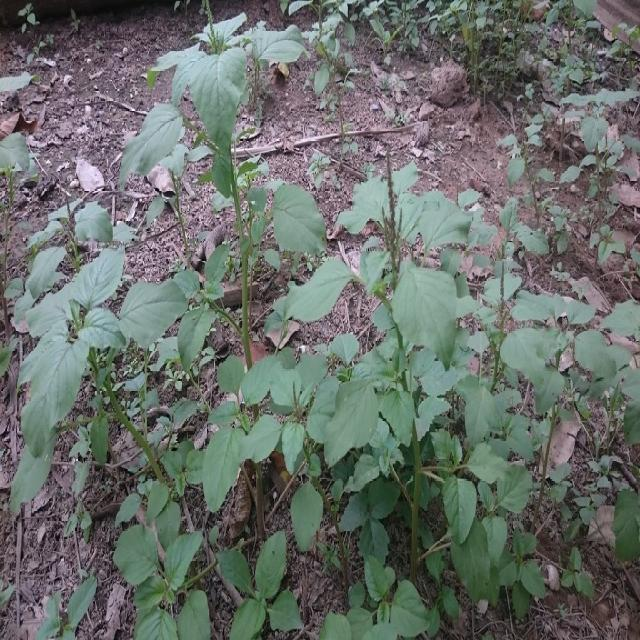Medicinal-Arive Dantu: (196, 146, 497, 512), (4, 206, 195, 520), (117, 5, 309, 209), (501, 294, 611, 418), (212, 527, 300, 640)
